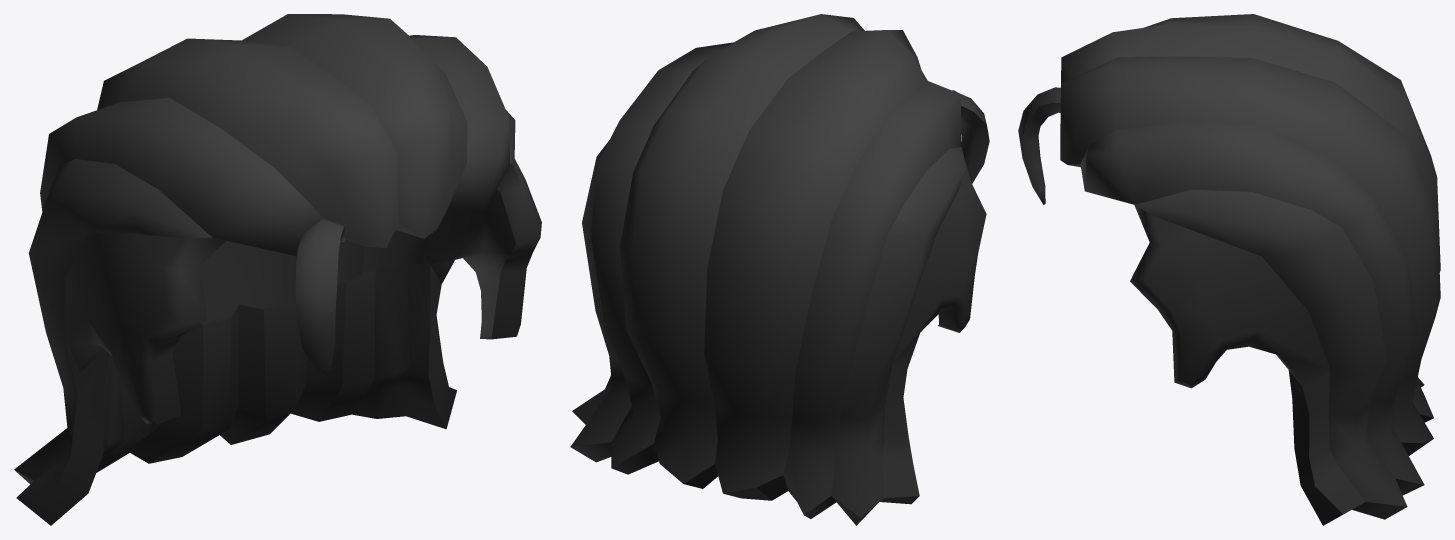
File: Hair_Black_9.fbx
The picture shows the model from 3 angles, left to right: view 1: azimuth 30°, elevation 25°; view 2: azimuth 150°, elevation 25°; view 3: azimuth 270°, elevation 25°; orthographic projection. The views are drawn at different scales.
Visible parts, largest first — view 1: Hair_Black_9; view 2: Hair_Black_9; view 3: Hair_Black_9.
Boxes of the visible parts, x1,y1,x2,y2 form: Hair_Black_9: (14,14,541,525); Hair_Black_9: (570,14,989,525); Hair_Black_9: (1018,14,1440,525).
Size of the model in its own units: 58.08 by 61.17 by 57.42.
